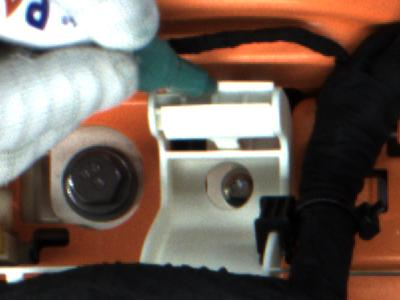nut_b: (53, 132, 148, 229)
